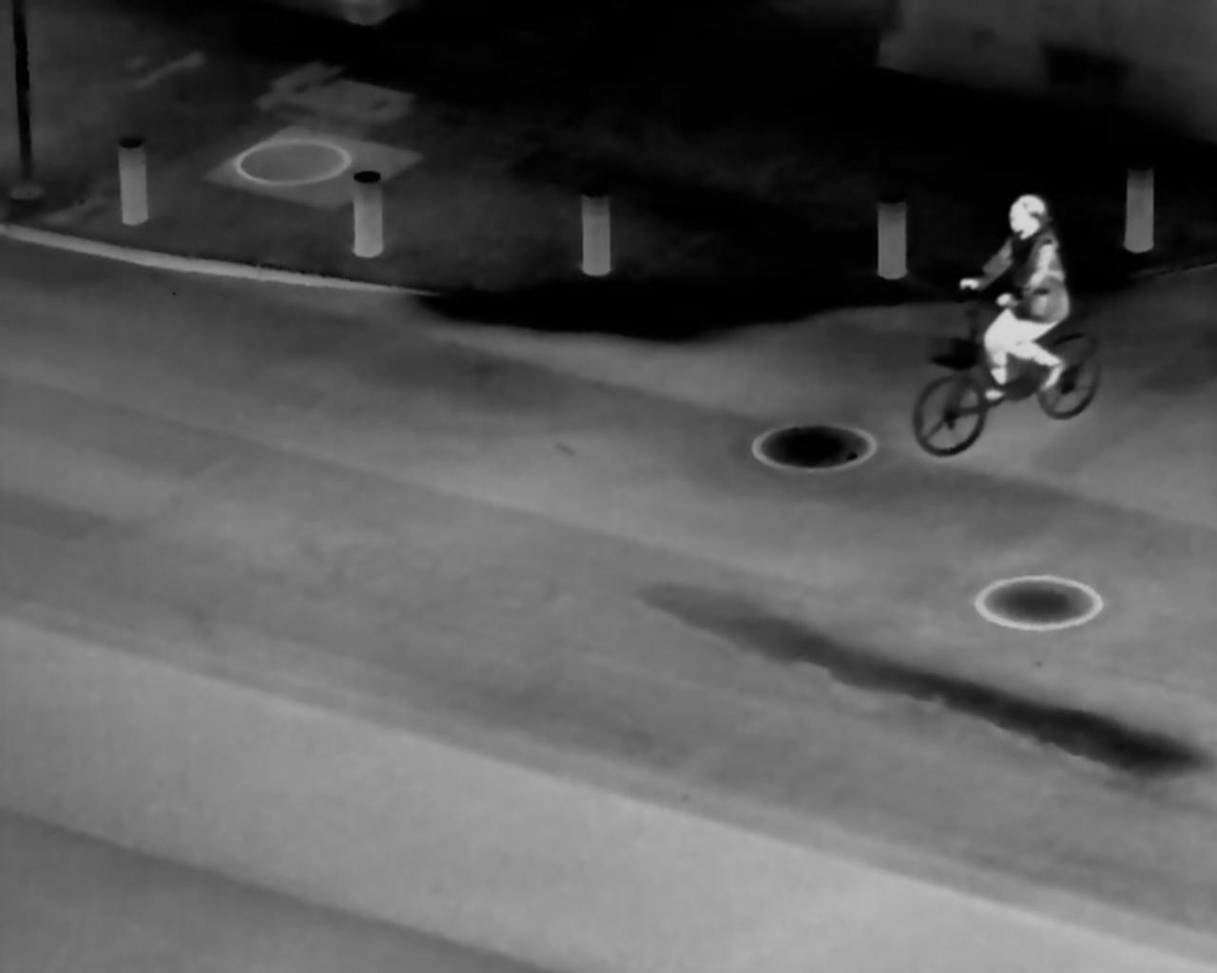person: (965, 182, 1074, 403)
